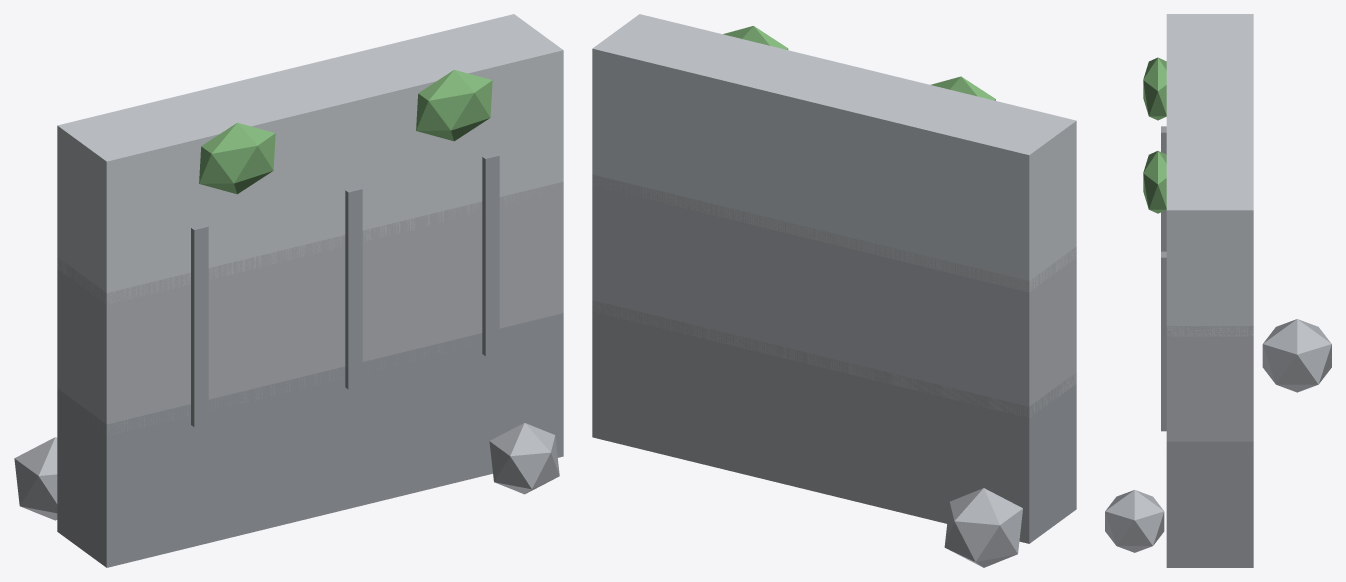
File: ruin_wall.glb
3 views of the same model, side by side, from view 1: azimuth 30°, elevation 25°; view 2: azimuth 150°, elevation 25°; view 3: azimuth 270°, elevation 25° (orthographic). The views are drawn at different scales.
Parts seen in each view (by area): view 1: course_2, course_0, course_1, ivy_0, ivy_1, rubble_1.002, crack_1.001, crack_0.001, crack_2, rubble_0.002; view 2: course_2, course_1, course_0, rubble_0.002, ivy_0, ivy_1; view 3: course_2, course_0, course_1, rubble_0.002, rubble_1.002, ivy_1, ivy_0, crack_2.
Boxes of the visible parts, box(x1,y1,x2,y2) form: course_2: box(57, 14, 563, 304); course_0: box(57, 313, 563, 567); course_1: box(57, 181, 563, 435); ivy_0: box(199, 122, 275, 194); ivy_1: box(416, 70, 492, 141); rubble_1.002: box(489, 423, 559, 494); crack_1.001: box(345, 186, 362, 389); crack_0.001: box(191, 224, 208, 427); crack_2: box(482, 153, 499, 356); rubble_0.002: box(14, 437, 57, 520); course_2: box(592, 14, 1076, 291); course_1: box(592, 174, 1076, 417); course_0: box(592, 300, 1076, 543); rubble_0.002: box(944, 488, 1022, 567); ivy_0: box(930, 76, 995, 100); ivy_1: box(723, 26, 788, 49); course_2: box(1166, 14, 1253, 336); course_0: box(1166, 441, 1253, 567); course_1: box(1166, 326, 1253, 451); rubble_0.002: box(1262, 319, 1331, 392); rubble_1.002: box(1105, 490, 1164, 552); ivy_1: box(1143, 151, 1166, 213); ivy_0: box(1143, 57, 1166, 120); crack_2: box(1161, 251, 1166, 431).
Size of the model in its own units: 1.65 by 1.44 by 0.7812.
